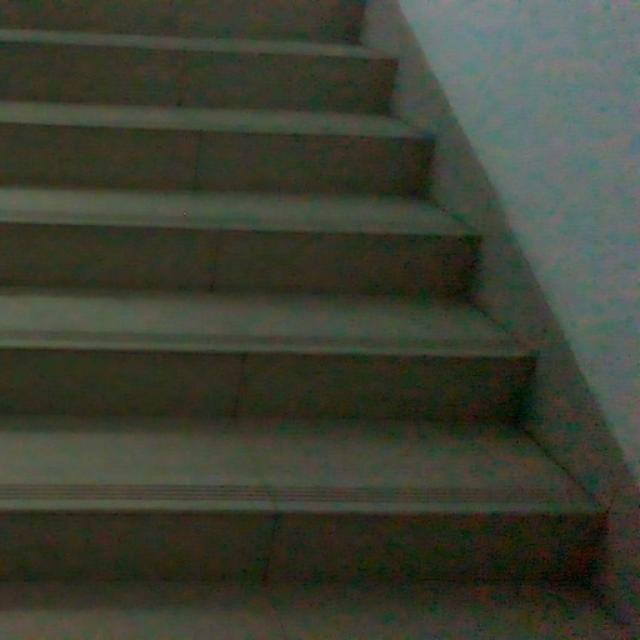Stairs: (0, 0, 611, 588)
